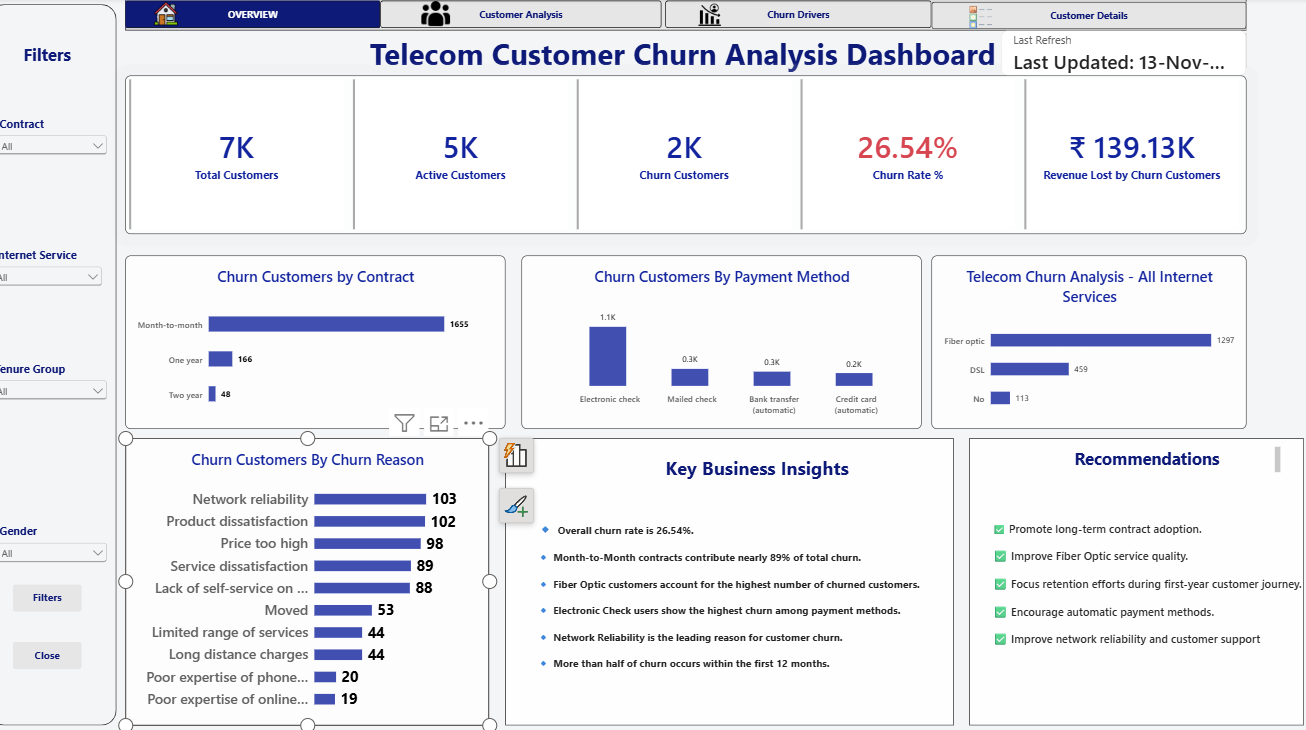

What the dashboard file says about the page in this screenshot:
{"tool":"powerbi","page":{"name":"Executive Overview","canvas":[1920,1080],"ordinal":0},"visuals":[{"type":"textbox","box":[197.3,50.7,1623.3,61.5],"z":0},{"type":"cardVisual","fields":{"Data":["Measures (2).Total Customers","Measures (2).Active Customers","Measures (2).Churn Customers","Measures (2).Churn Rate %","Measures (2).Revenue Lost by Churn Customers"]},"box":[197.3,112.2,1623.3,229.8],"z":1000},{"type":"clusteredBarChart","title":"Churn Customers by Contract","fields":{"Category":["Dim Contract.Contract"],"Y":["Measures (2).Churn Customers"]},"box":[197.3,372.8,550.1,251.5],"z":2000},{"type":"clusteredBarChart","fields":{"Category":["Dim_InternetService.Internet Service"],"Y":["Measures (2).Churn Customers"]},"box":[1364.5,372.8,456,251.5],"z":3000},{"type":"columnChart","title":"Churn Customers By Payment Method","fields":{"Category":["Dim_PaymentMethod.Payment Method"],"Y":["Measures (2).Churn Customers"]},"box":[770.9,372.8,579.1,251.5],"z":4000},{"type":"clusteredBarChart","title":"Churn Customers By Churn Reason","fields":{"Category":["Telco_Churn.Churn Reason"],"Y":["Measures (2).Total Customers"]},"box":[197.3,637,526.6,416.2],"z":5000},{"type":"shape","box":[197.3,0,1623.3,47.1],"z":6000},{"type":"actionButton","box":[197.3,3.6,369.2,39.8],"z":7000},{"type":"image","box":[238.9,3.6,34.4,38],"z":8000},{"type":"actionButton","box":[566.4,3.6,407.2,39.8],"z":9000},{"type":"actionButton","box":[979,3.6,385.5,39.8],"z":10000},{"type":"actionButton","box":[1364.5,5.4,456,39.8],"z":11000},{"type":"image","box":[582.7,1.8,128.5,41.6],"z":12000},{"type":"image","box":[1026.1,5.4,34.4,38],"z":13000},{"type":"image","box":[1418.8,9,34.4,38],"z":14000},{"type":"shape","box":[747.4,637,649.7,416.2],"z":18000},{"type":"textbox","box":[859.6,662.3,504.9,59.7],"z":19000},{"type":"textbox","box":[792.6,756.4,604.4,264.2],"z":20000},{"type":"shape","box":[1418.8,637,485,416.2],"z":21000},{"type":"textbox","box":[1436.9,637,432.5,25.3],"z":22000},{"type":"textbox","box":[1491.2,649.7,378.2,43.4],"z":22001},{"type":"textbox","box":[1453.2,756.4,450.6,264.2],"z":22002},{"type":"shape","title":"Filter Panel BG","box":[0,9,184.6,1044.2],"z":22003},{"type":"textbox","title":"Filter Title","box":[0,65.1,168.3,99.5],"z":22004},{"type":"slicer","title":"Contract Slicer","fields":{"Values":["Dim Contract.Contract"]},"box":[7.2,170.1,168.3,171.9],"z":22005},{"type":"slicer","title":"Internet Slicer","fields":{"Values":["Dim_InternetService.Internet Service"]},"box":[0,360.1,168.3,171.9],"z":22006},{"type":"slicer","title":"Tenure group Slicer","fields":{"Values":["Telco_Churn.Tenure Group"]},"box":[0,524.8,175.5,231.6],"z":22007},{"type":"slicer","title":"Gender Slicer","fields":{"Values":["Telco_Churn.Gender"]},"box":[7.2,760.1,168.3,171.9],"z":22008},{"type":"actionButton","box":[34.4,848.7,100,40],"z":22009},{"type":"actionButton","box":[34.4,932,100,40],"z":22010},{"type":"cardVisual","fields":{"Data":["Measures (2).Last Refresh"]},"box":[1465.8,47.1,380,65.1],"z":22011}]}

Visuals, with their boxes on the page's 1920x1080 design canvas (x1, y1, x2, y2). These are canvas units, not pixel positions in the 1306x730 screenshot, which may show the page scaled, cropped or inside an application window:
textbox: [x1=197, y1=51, x2=1821, y2=112]
cardVisual - Measures (2).Total Customers x Measures (2).Active Customers: [x1=197, y1=112, x2=1821, y2=342]
"Churn Customers by Contract" clusteredBarChart: [x1=197, y1=373, x2=747, y2=624]
clusteredBarChart - Dim_InternetService.Internet Service x Measures (2).Churn Customers: [x1=1364, y1=373, x2=1820, y2=624]
"Churn Customers By Payment Method" columnChart: [x1=771, y1=373, x2=1350, y2=624]
"Churn Customers By Churn Reason" clusteredBarChart: [x1=197, y1=637, x2=724, y2=1053]
shape: [x1=197, y1=0, x2=1821, y2=47]
actionButton: [x1=197, y1=4, x2=566, y2=43]
image: [x1=239, y1=4, x2=273, y2=42]
actionButton: [x1=566, y1=4, x2=974, y2=43]
actionButton: [x1=979, y1=4, x2=1364, y2=43]
actionButton: [x1=1364, y1=5, x2=1820, y2=45]
image: [x1=583, y1=2, x2=711, y2=43]
image: [x1=1026, y1=5, x2=1060, y2=43]
image: [x1=1419, y1=9, x2=1453, y2=47]
shape: [x1=747, y1=637, x2=1397, y2=1053]
textbox: [x1=860, y1=662, x2=1364, y2=722]
textbox: [x1=793, y1=756, x2=1397, y2=1021]
shape: [x1=1419, y1=637, x2=1904, y2=1053]
textbox: [x1=1437, y1=637, x2=1869, y2=662]
textbox: [x1=1491, y1=650, x2=1869, y2=693]
textbox: [x1=1453, y1=756, x2=1904, y2=1021]
"Filter Panel BG" shape: [x1=0, y1=9, x2=185, y2=1053]
"Filter Title" textbox: [x1=0, y1=65, x2=168, y2=165]
"Contract Slicer" slicer: [x1=7, y1=170, x2=176, y2=342]
"Internet Slicer" slicer: [x1=0, y1=360, x2=168, y2=532]
"Tenure group Slicer" slicer: [x1=0, y1=525, x2=176, y2=756]
"Gender Slicer" slicer: [x1=7, y1=760, x2=176, y2=932]
actionButton: [x1=34, y1=849, x2=134, y2=889]
actionButton: [x1=34, y1=932, x2=134, y2=972]
cardVisual - Measures (2).Last Refresh: [x1=1466, y1=47, x2=1846, y2=112]
